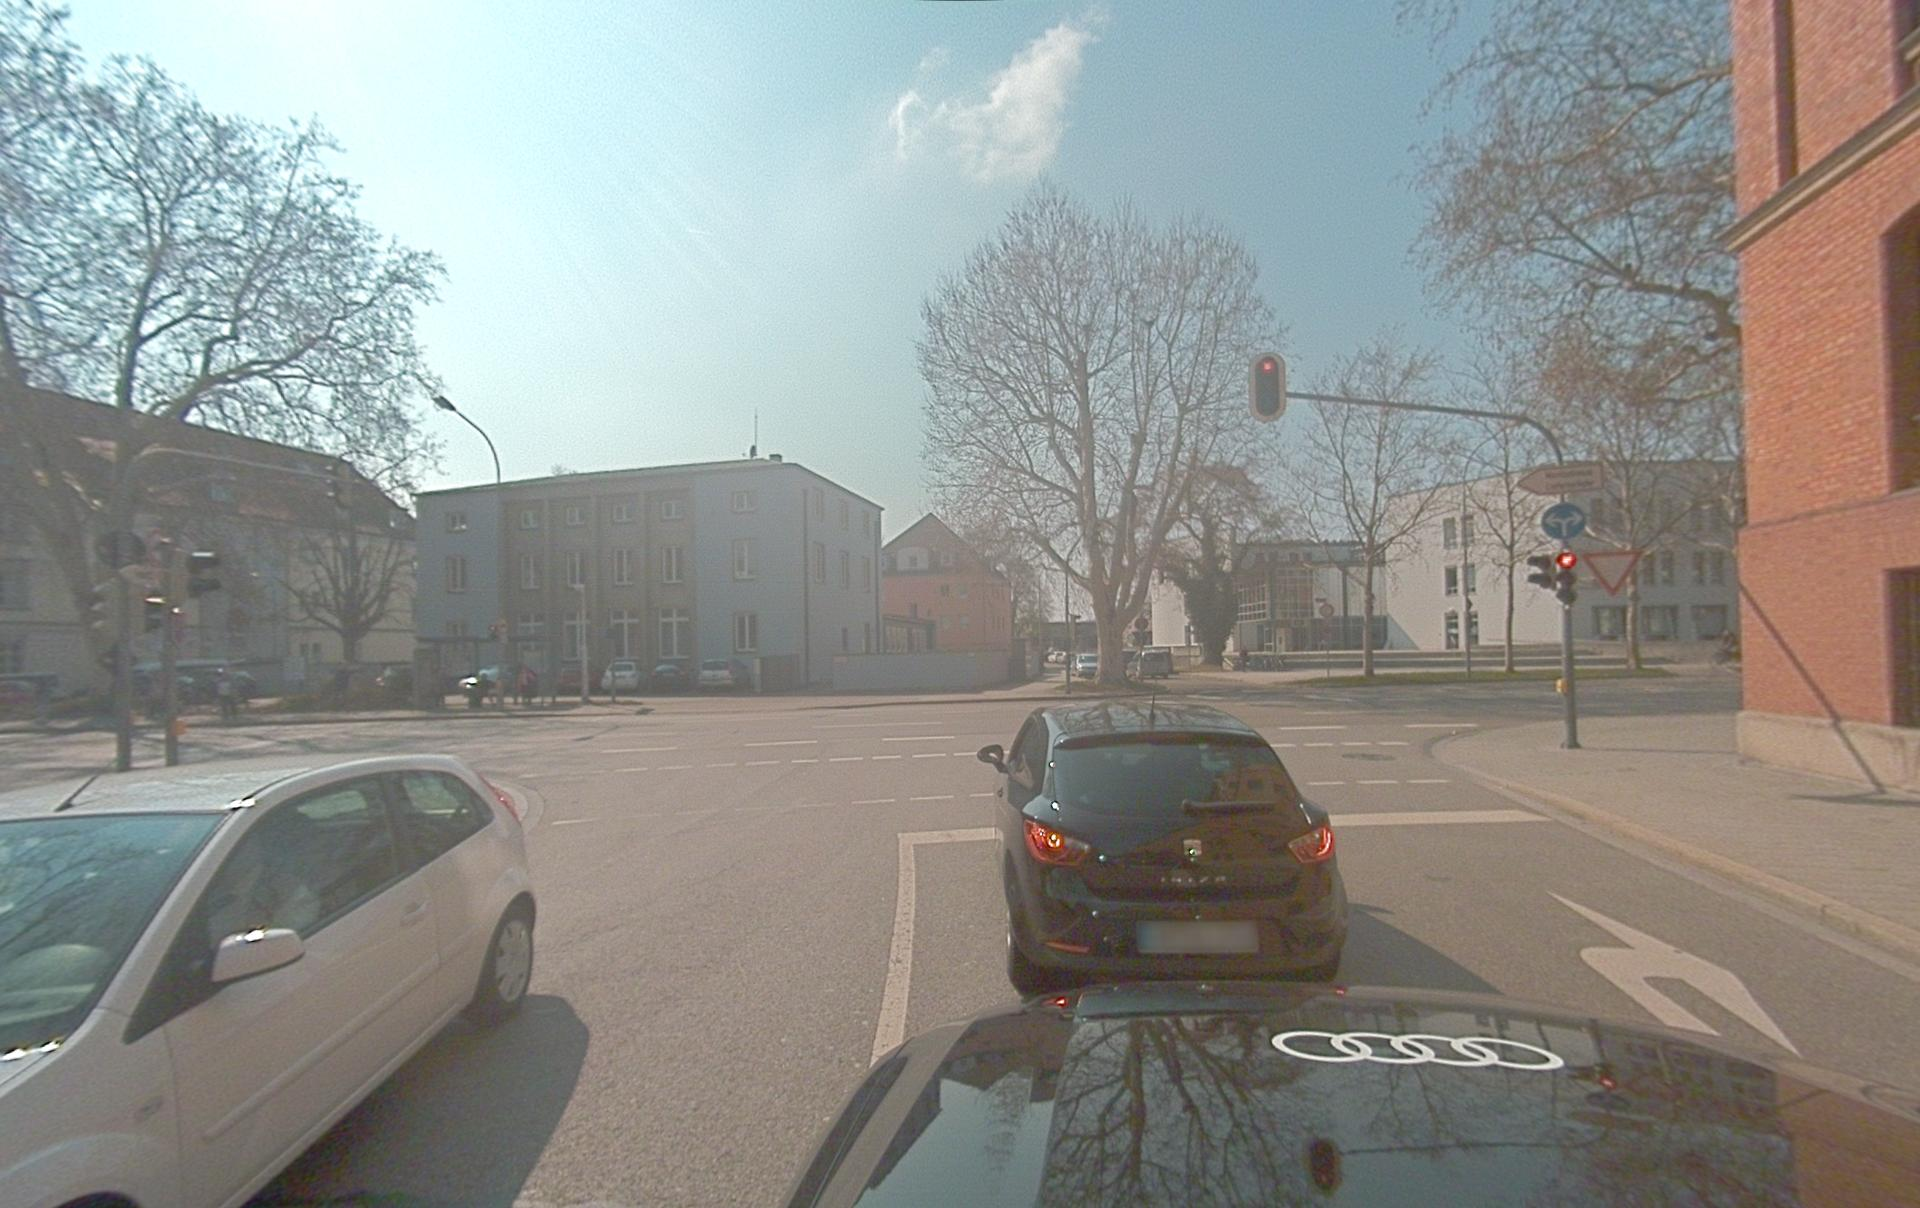car: (1, 752, 537, 1207), (781, 983, 1807, 1207), (977, 696, 1350, 996), (456, 664, 537, 706), (1126, 647, 1174, 682), (601, 660, 641, 693), (1070, 653, 1099, 679)
traffic sign: (1517, 461, 1604, 495), (1542, 502, 1587, 540)
